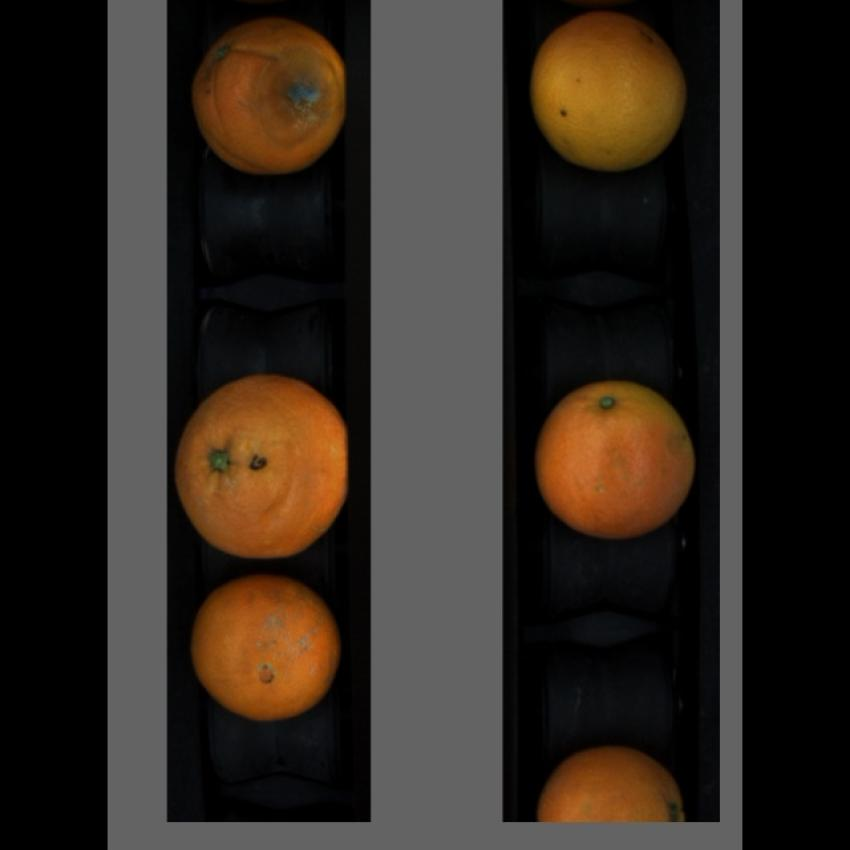Buen estado: (529, 11, 695, 180), (534, 736, 696, 824)
Mal estado: (170, 372, 346, 564), (535, 370, 699, 534), (188, 23, 352, 174), (192, 574, 340, 726)
